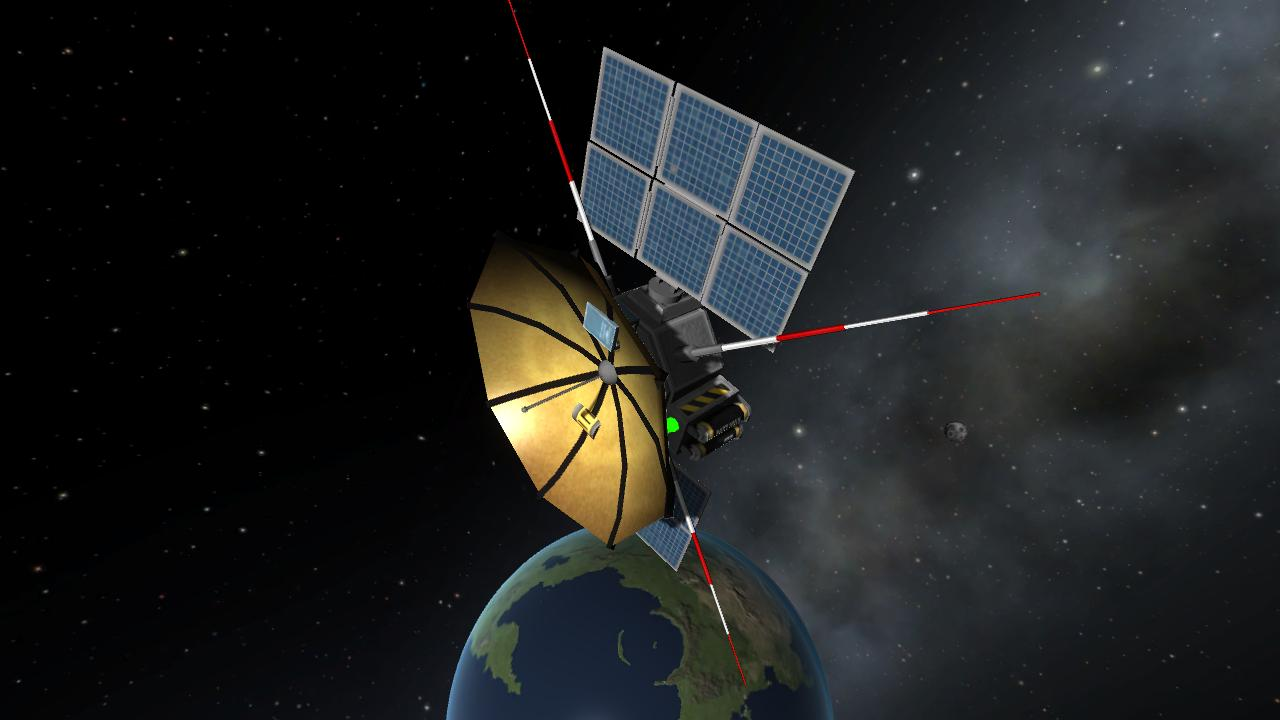antenna: (463, 224, 679, 554), (506, 0, 619, 293), (671, 290, 1046, 367), (658, 427, 751, 690)
body: (588, 274, 755, 462)
solar: (573, 43, 860, 356), (629, 451, 716, 576)
